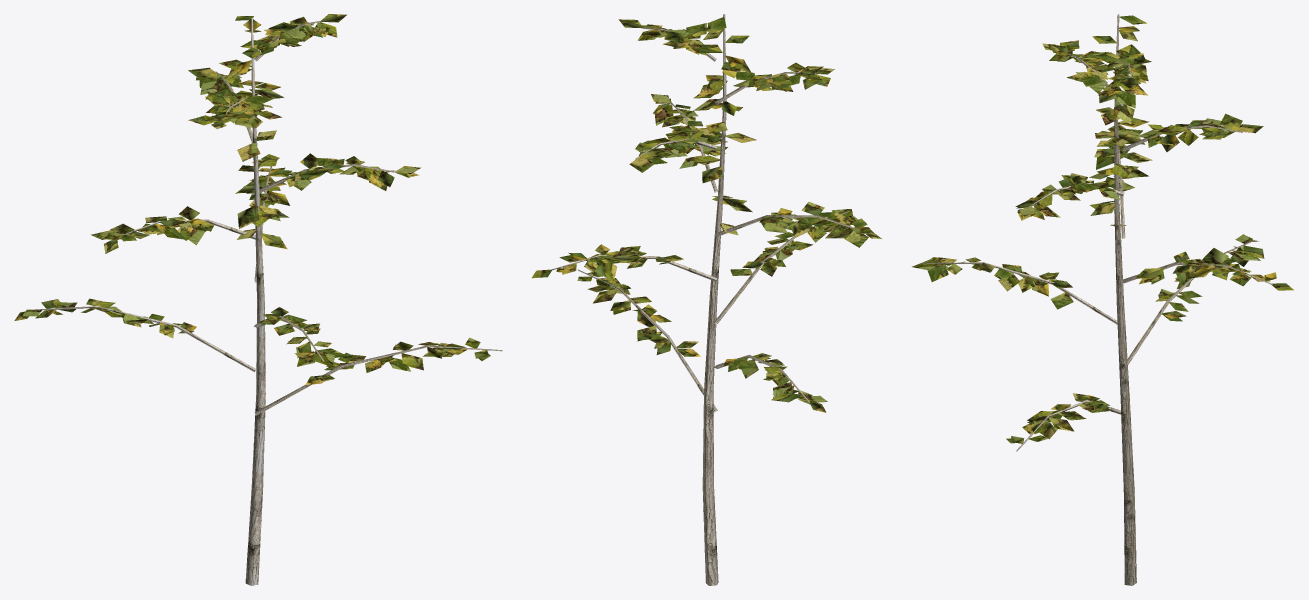
File: veg_birch_sapling.glb
3 views of the same model, side by side, from view 1: azimuth 30°, elevation 25°; view 2: azimuth 150°, elevation 25°; view 3: azimuth 270°, elevation 25° (orthographic).
Visible parts, largest first — view 1: veg_birch_sapling; view 2: veg_birch_sapling; view 3: veg_birch_sapling.
Boxes of the visible parts, x1,y1,x2,y2 form: veg_birch_sapling: (14, 14, 502, 585); veg_birch_sapling: (532, 14, 881, 585); veg_birch_sapling: (912, 14, 1293, 585).
Bounding box in the file's own units: 1.76 × 2.6 × 1.6.
Materials: 1 (1 with a texture image).
